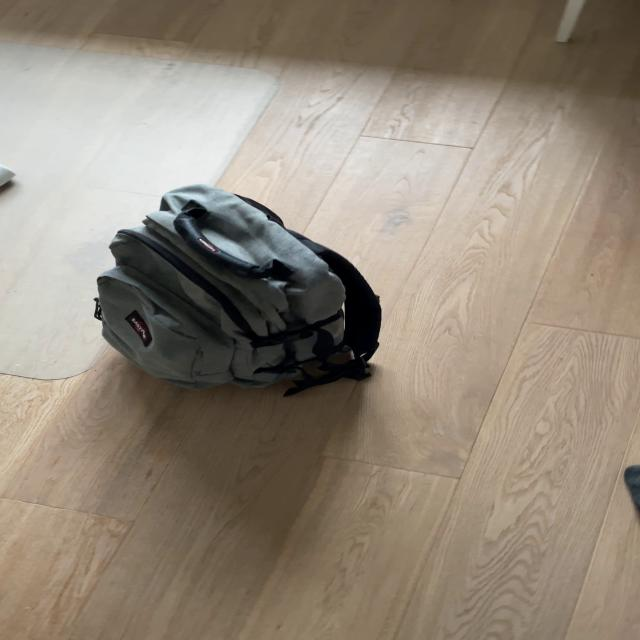backpack: (80, 177, 396, 397)
